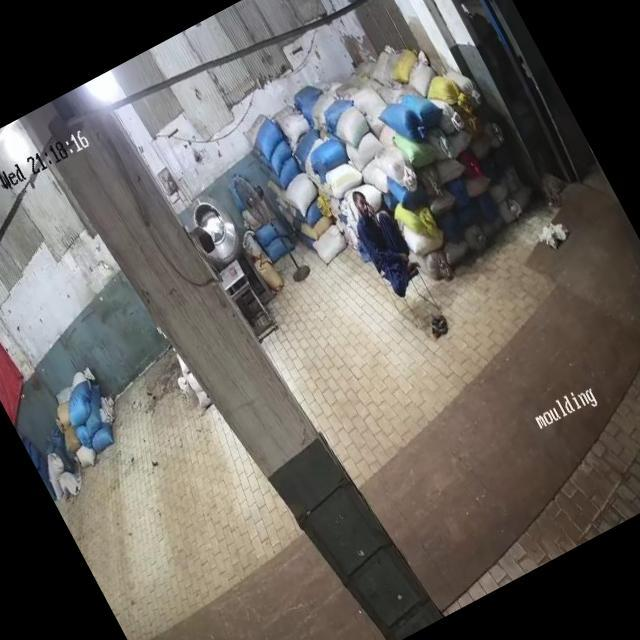person: (340, 180, 430, 304)
